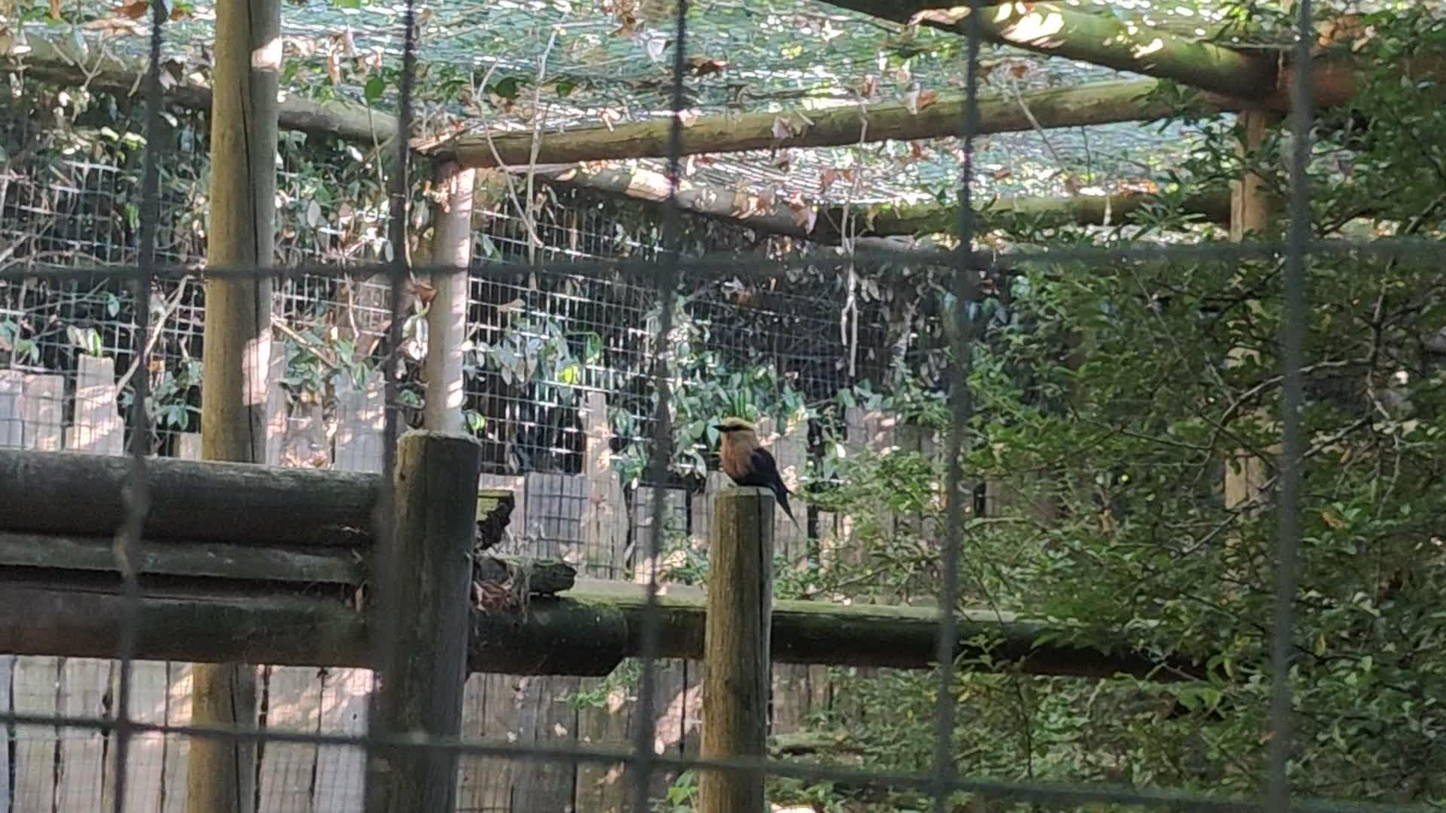apple: (712, 417, 802, 532)
